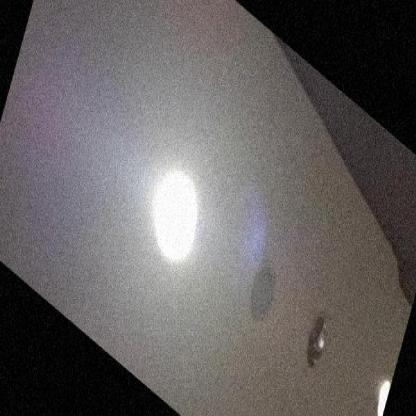light_off: (289, 284, 346, 397)
